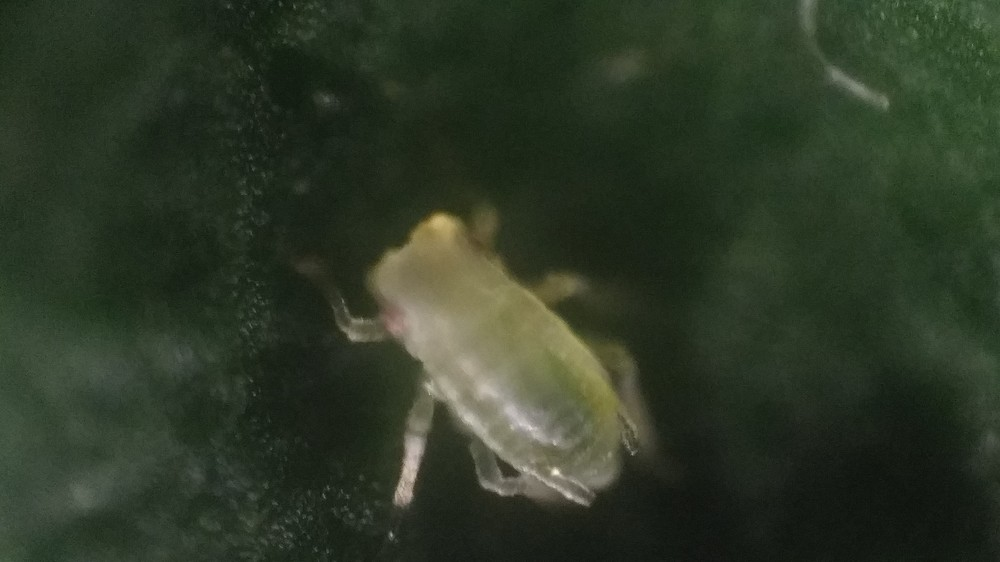Pulgon: (265, 156, 709, 541)
